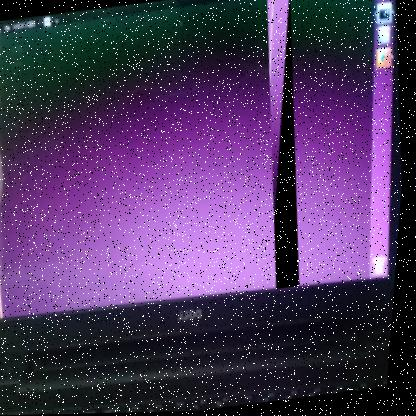lines: (247, 0, 321, 292)
